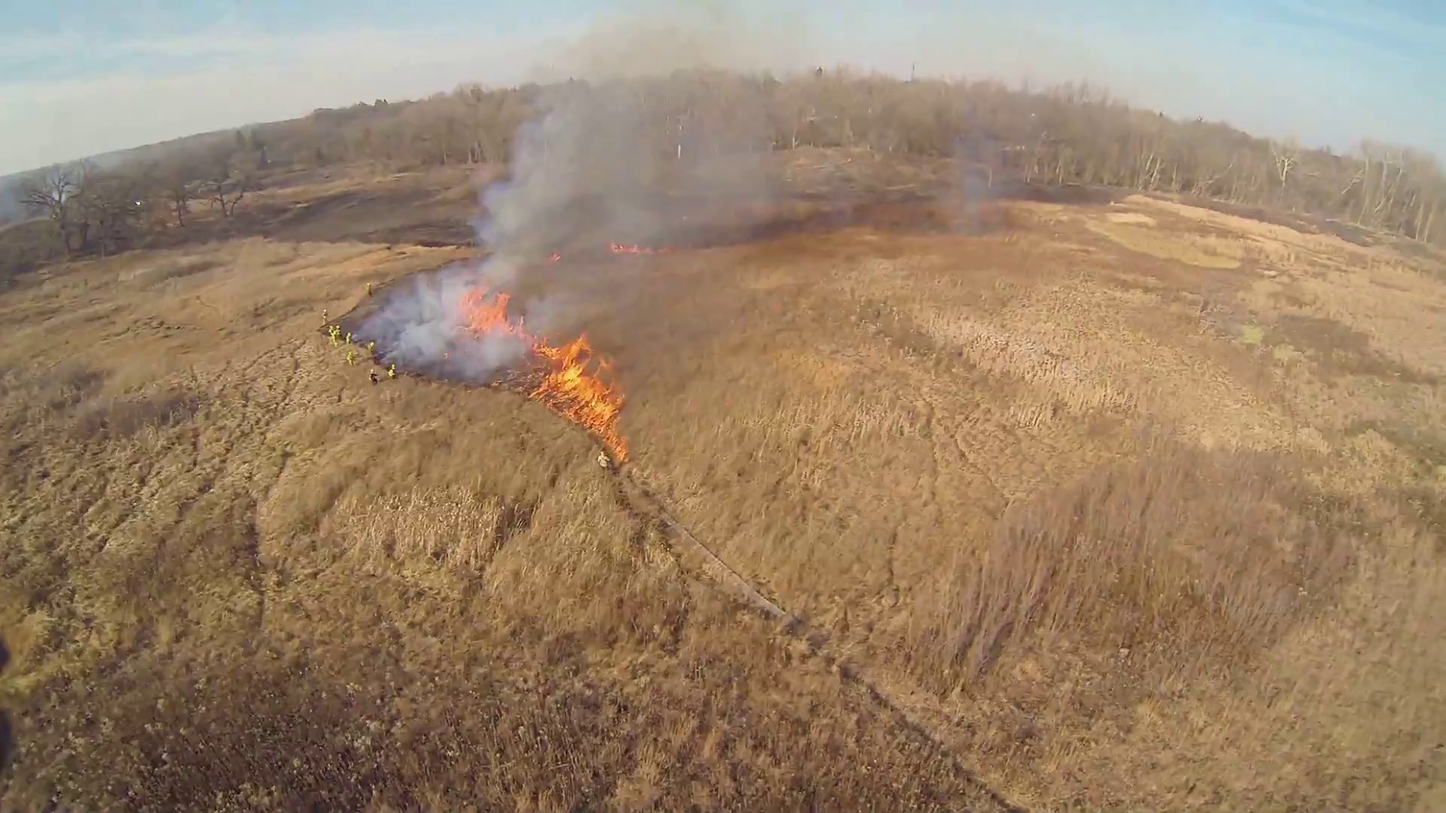forest_fire: (462, 288, 627, 462), (609, 242, 670, 255)
